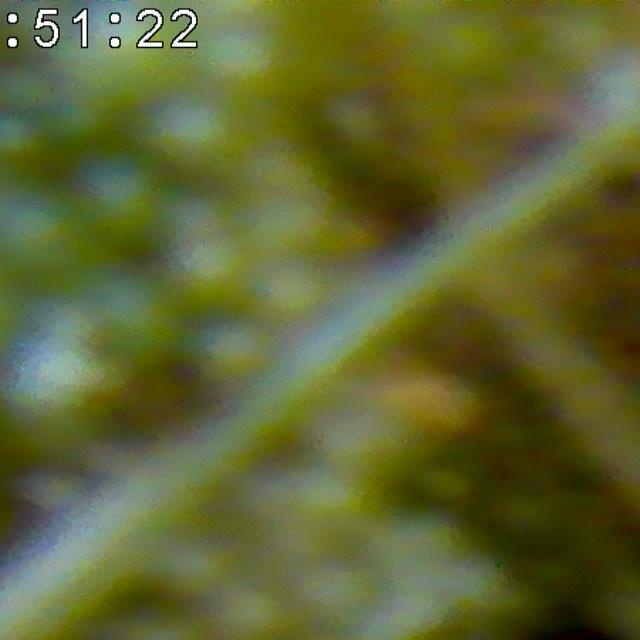SeaGrape: (0, 320, 114, 452), (195, 16, 300, 110), (93, 269, 190, 364), (0, 199, 99, 289), (80, 163, 176, 253), (166, 222, 255, 305), (300, 552, 385, 628), (256, 254, 335, 331), (195, 314, 277, 388), (291, 480, 373, 553), (376, 506, 458, 576), (159, 103, 240, 171), (216, 581, 297, 640), (0, 102, 51, 175)
